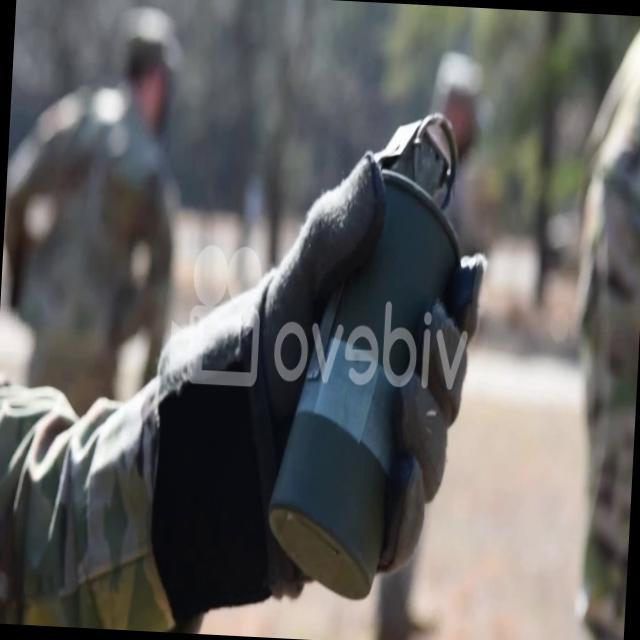grenade: (263, 92, 480, 604)
